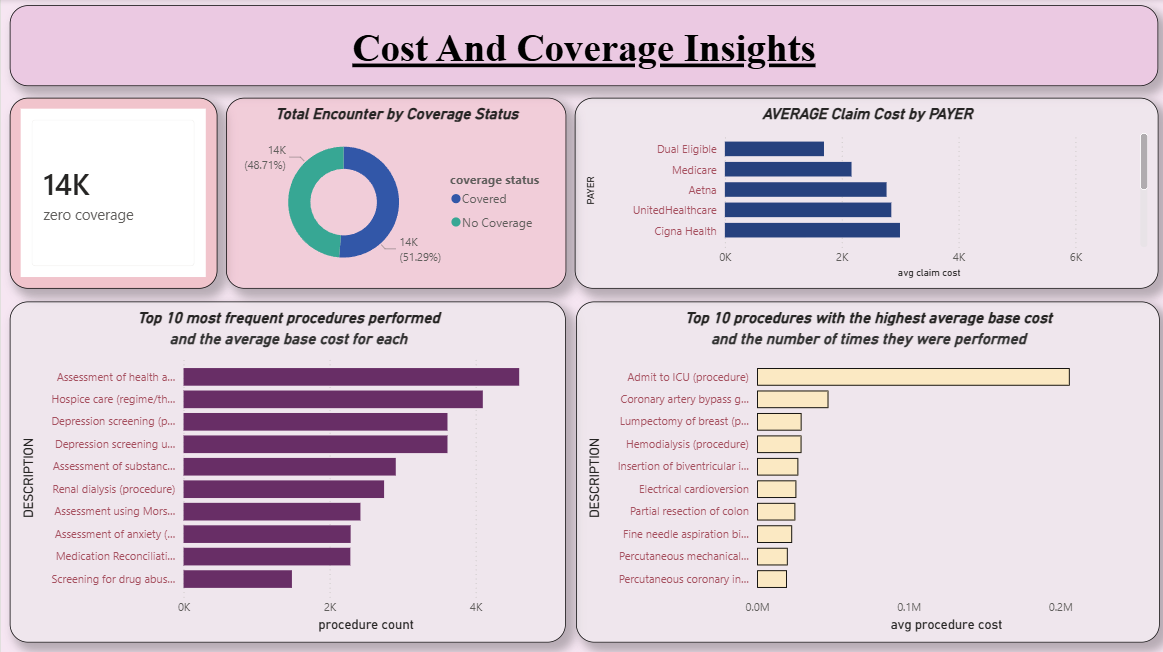

This screenshot's page, from the dashboard's own definition file:
{"tool":"powerbi","page":{"name":"cost and coverage insight","canvas":[1280,720],"ordinal":1},"visuals":[{"type":"textbox","box":[9,7,1261,89],"z":0},{"type":"cardVisual","fields":{"Data":["encounters.zero coverage encounter"]},"box":[9.6,108.4,227.8,209.9],"z":1000},{"type":"donutChart","title":"Total Encounter by Coverage Status","fields":{"Category":["encounters.coverage status"],"Y":["encounters.total encounter"]},"box":[247,108.4,373.2,209.9],"z":2000},{"type":"clusteredBarChart","title":"Top 10 most frequent procedures performed","fields":{"Category":["procedures.DESCRIPTION"],"Y":["procedures.procedure count"]},"box":[9.6,332.1,610.6,374.6],"z":3000},{"type":"clusteredBarChart","title":"Top 10 procedures with the highest average base cost","fields":{"Category":["procedures.DESCRIPTION"],"Y":["procedures.avg procedure cost"]},"box":[631.2,332.1,640.8,374.6],"z":4000},{"type":"clusteredBarChart","title":"AVERAGE Claim Cost by PAYER","fields":{"Category":["payers.NAME"],"Y":["encounters.avg claim cost"]},"box":[629.8,108.4,640.8,209.9],"z":5000}]}

Visuals, with their boxes in screenshot pixels (x1, y1, x2, y2), scaled from the page's 1280x720 canvas onto the 1163x652 screenshot:
textbox: region(8, 6, 1154, 87)
cardVisual - encounters.zero coverage encounter: region(9, 98, 216, 288)
"Total Encounter by Coverage Status" donutChart: region(224, 98, 564, 288)
"Top 10 most frequent procedures performed" clusteredBarChart: region(9, 301, 564, 640)
"Top 10 procedures with the highest average base cost" clusteredBarChart: region(574, 301, 1156, 640)
"AVERAGE Claim Cost by PAYER" clusteredBarChart: region(572, 98, 1154, 288)
